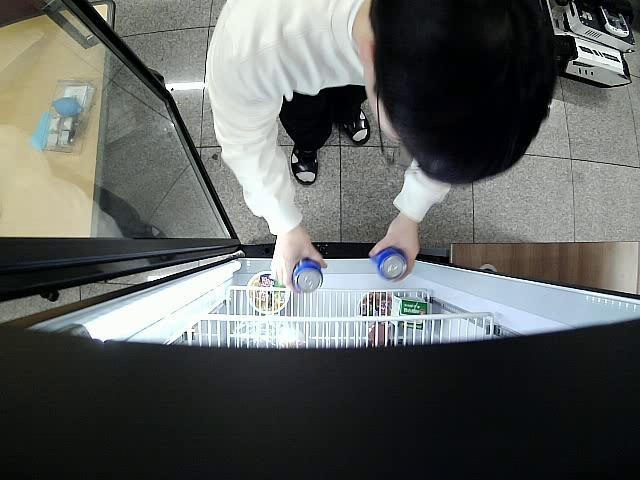13_pocariSweat: (371, 247, 408, 280), (292, 259, 323, 292)
